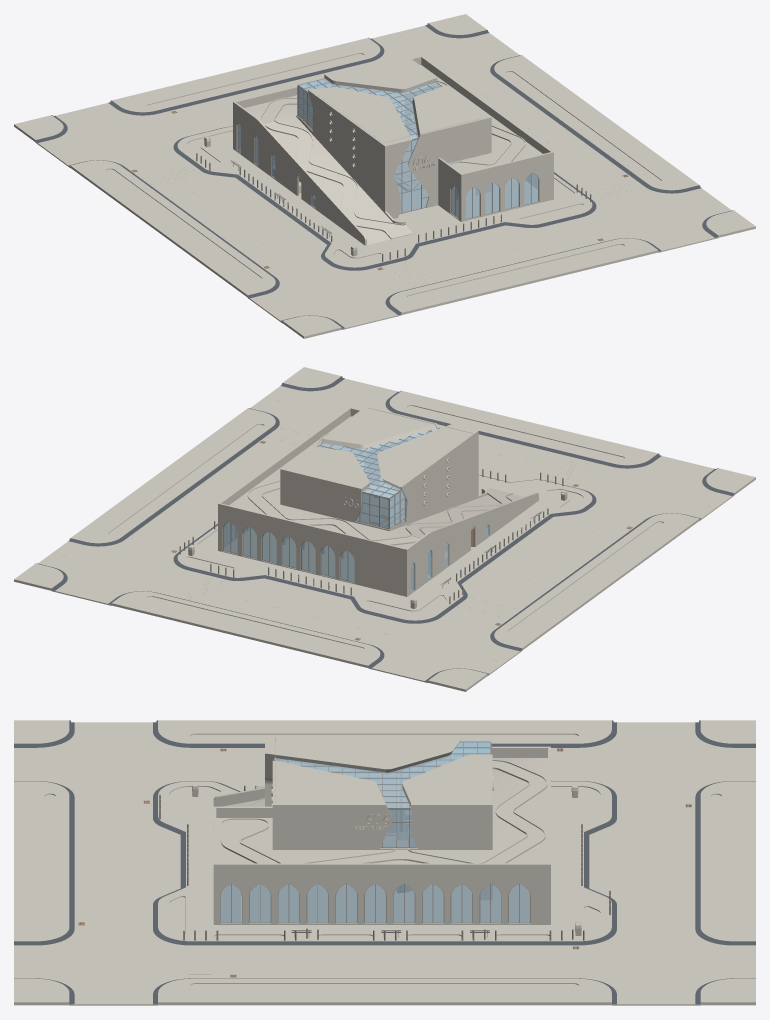
Rendered from restaurant-606.glb.
The picture shows the model from 3 angles, top to bottom: view 1: azimuth 30°, elevation 25°; view 2: azimuth 150°, elevation 25°; view 3: azimuth 270°, elevation 25°; orthographic projection. The views are drawn at different scales.
Visible parts, largest first — view 1: stone, ground, glass, metal; view 2: stone, ground, glass, metal; view 3: stone, glass, ground, metal.
Boxes of the visible parts, box(x1,y1,x2,y2) form: stone: box(14, 14, 755, 338); ground: box(35, 23, 733, 328); glass: box(237, 78, 538, 218); metal: box(196, 78, 591, 261); stone: box(14, 367, 755, 691); ground: box(36, 376, 734, 681); glass: box(223, 428, 488, 591); metal: box(179, 427, 563, 604); stone: box(14, 720, 755, 1005); glass: box(220, 742, 529, 922); ground: box(14, 720, 755, 1004); metal: box(159, 741, 610, 940).
Size of the model in its own units: 89.92 by 14.8 by 100.
